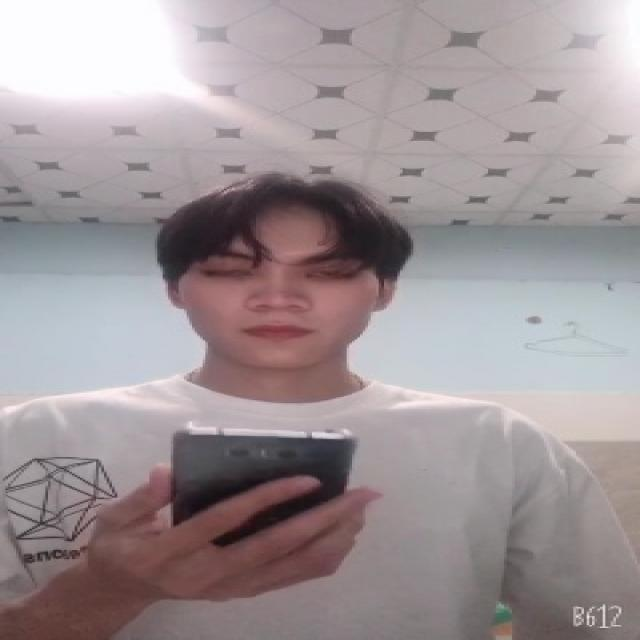Phone: (165, 420, 359, 546)
